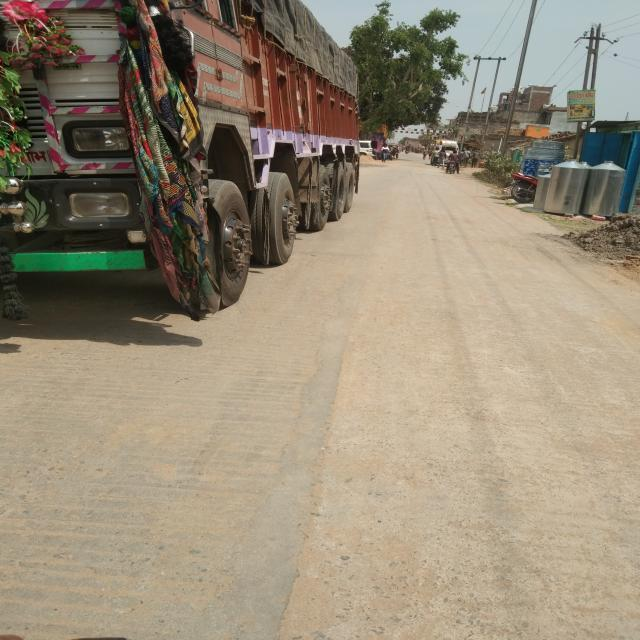truck_front: (0, 0, 371, 320)
